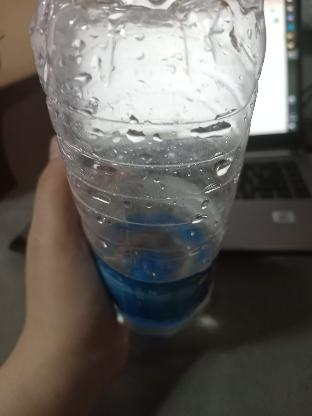Plastic Bottle: (28, 1, 272, 338)
